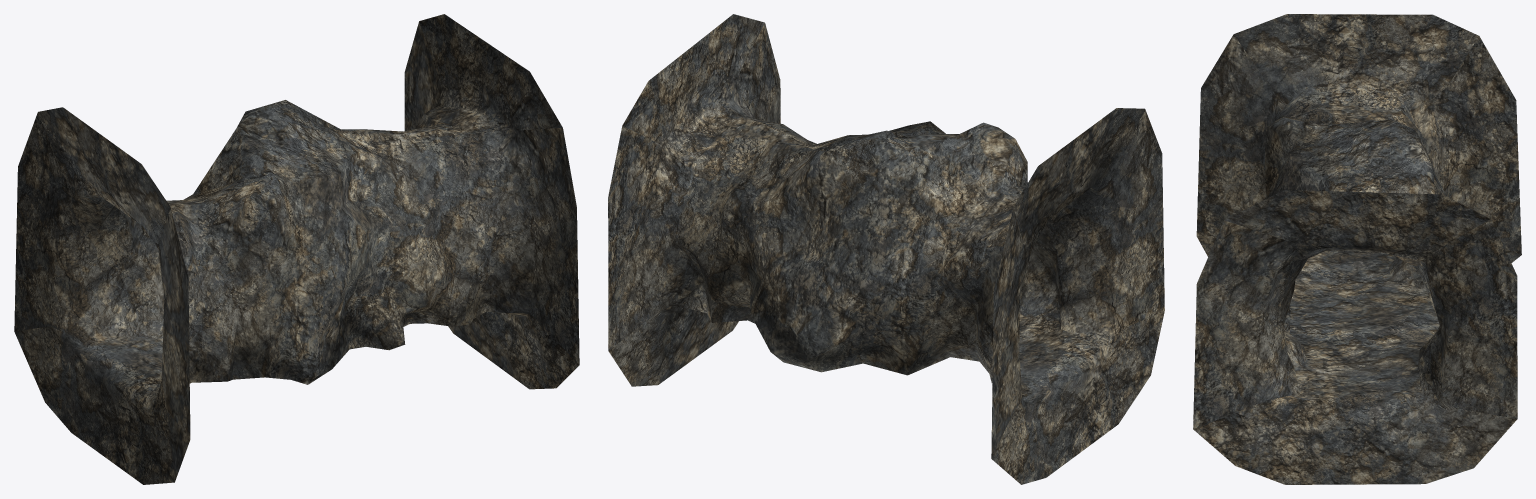
The model's file is Module1_LOD1.fbx.
3 renders of one model, left to right at view 1: azimuth 30°, elevation 25°; view 2: azimuth 150°, elevation 25°; view 3: azimuth 270°, elevation 25°, orthographic. The views are drawn at different scales.
Parts seen in each view (by area): view 1: cave_el1_1000_Group35624; view 2: cave_el1_1000_Group35624; view 3: cave_el1_1000_Group35624.
Part boxes in pixels (<box>): cave_el1_1000_Group35624: <box>14,14,579,484</box>; cave_el1_1000_Group35624: <box>608,14,1164,484</box>; cave_el1_1000_Group35624: <box>1193,14,1521,484</box>.
Bounding box in the file's own units: 10.63 × 8.39 × 8.41.
